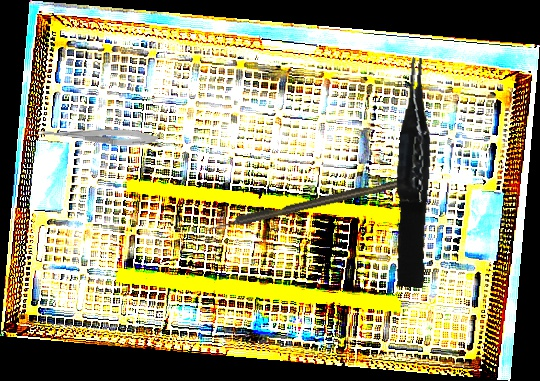Hook Surgical: (204, 175, 416, 233)
Micro Scissor: (35, 125, 159, 148)
Tissue Forceps: (387, 56, 443, 289)
